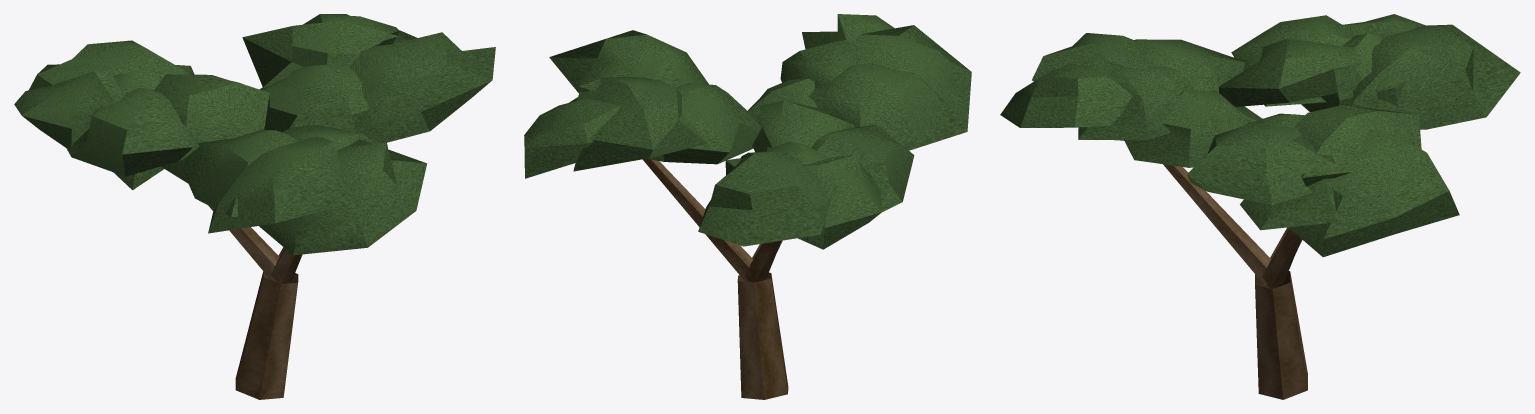
Rendered from ambient_tree_23.glb.
3 renders of one model, left to right at view 1: azimuth 30°, elevation 25°; view 2: azimuth 150°, elevation 25°; view 3: azimuth 270°, elevation 25°, orthographic. The views are drawn at different scales.
Visible parts, largest first — view 1: ambient_tree_23; view 2: ambient_tree_23; view 3: ambient_tree_23.
Boxes of the visible parts, <box> form: ambient_tree_23: <box>14,14,495,399</box>; ambient_tree_23: <box>524,14,971,399</box>; ambient_tree_23: <box>1000,14,1520,399</box>.
Size of the model in its own units: 8.95 by 6.73 by 9.69.
Materials: 2 (2 with a texture image).
